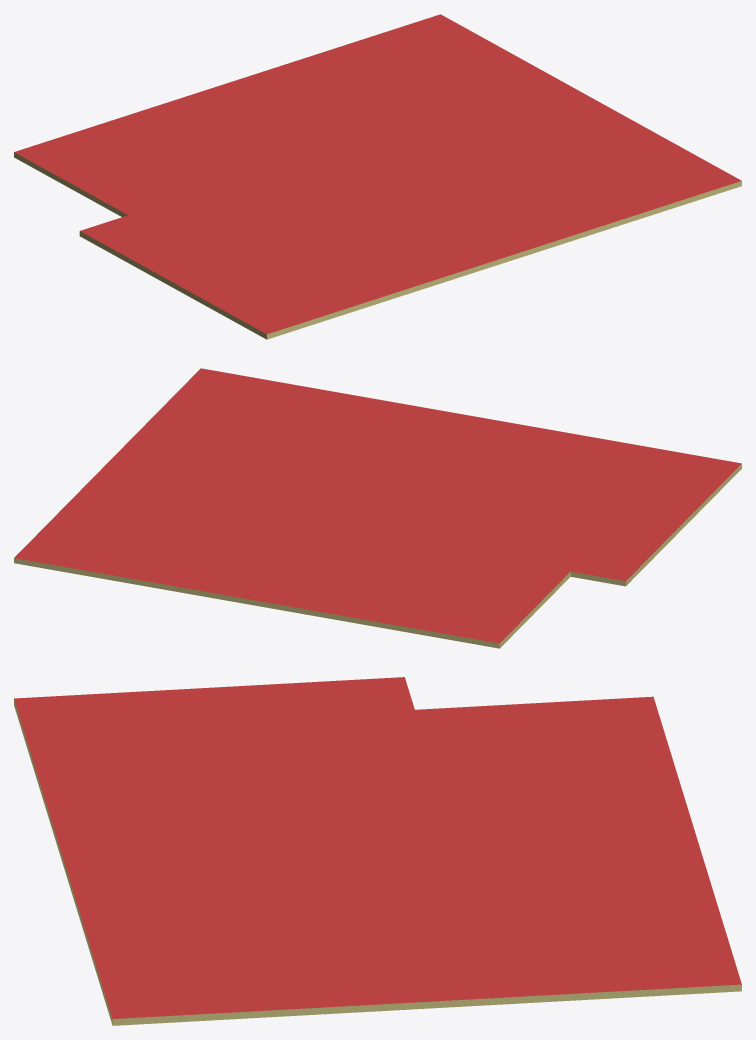
The picture shows the model from 3 angles, top to bottom: view 1: azimuth 30°, elevation 25°; view 2: azimuth 150°, elevation 25°; view 3: azimuth 270°, elevation 25°; orthographic projection. The views are drawn at different scales.
Size of the model in its own units: 10.76 by 9.68 by 0.1.
